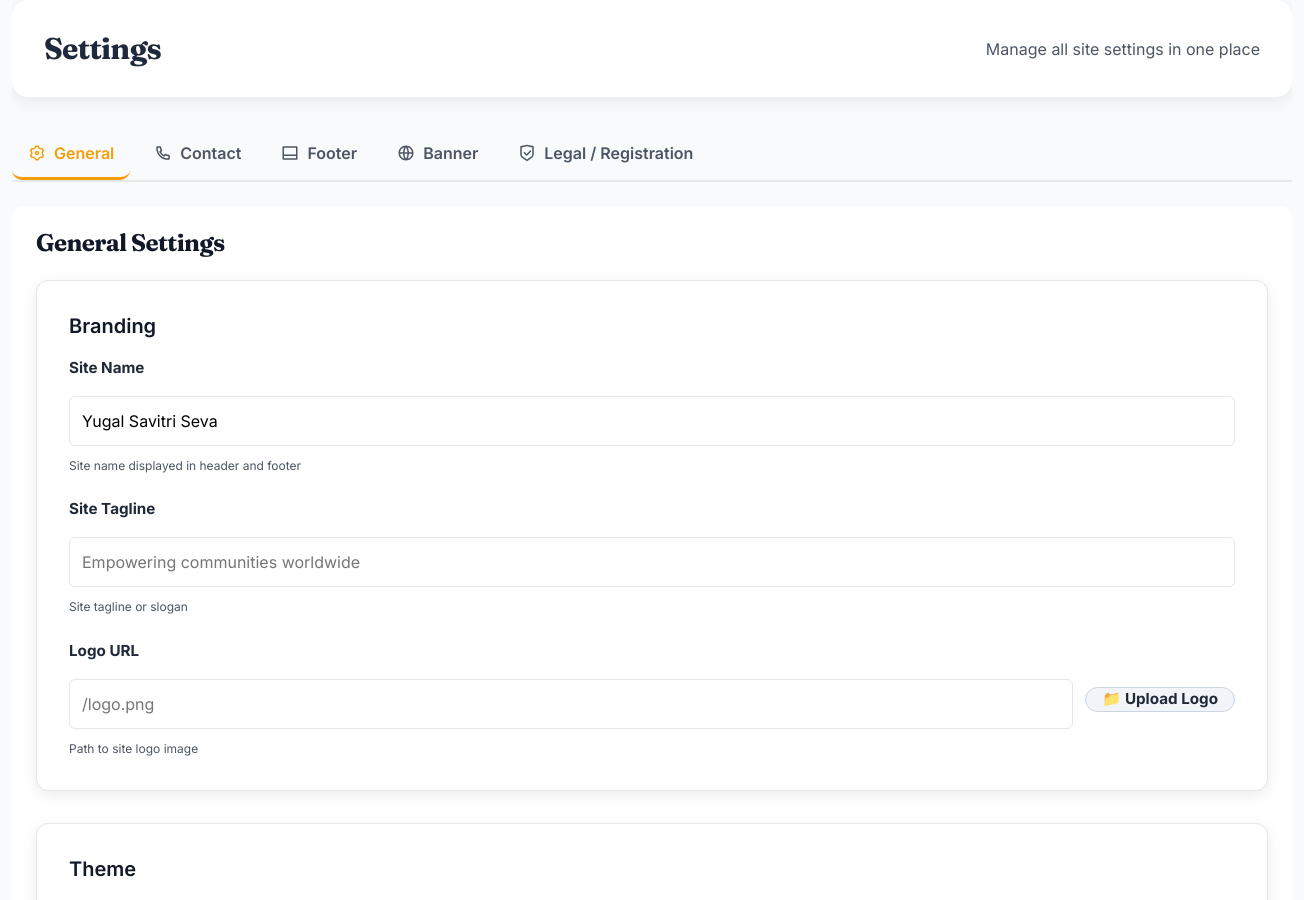
Test: AdminSettingsConsolidated › switches to Banner tab and shows banner form
Expected: the heading "General Settings" is shown, [36,228,225,257]
Click the button with test id "settings-tab-banner". click: (438, 154)
box: [381,129,494,180]
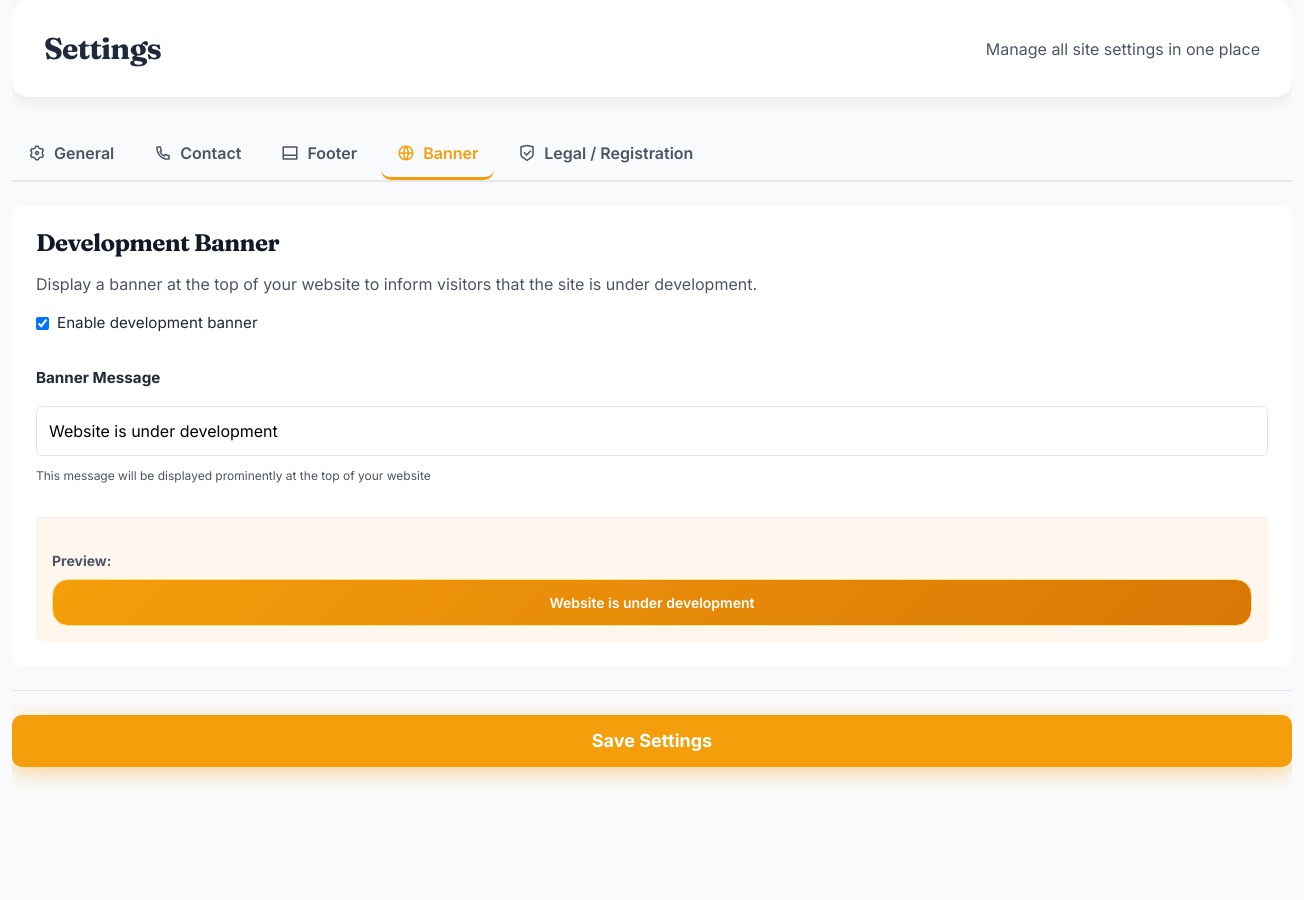
Now the heading "General Settings" is gone
